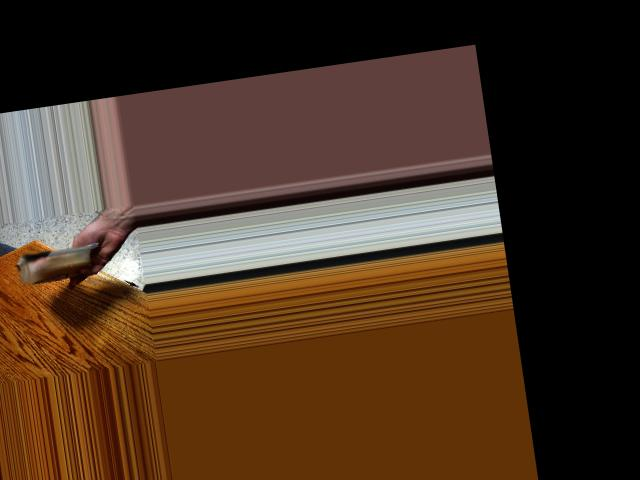cheese: (18, 228, 98, 288)
